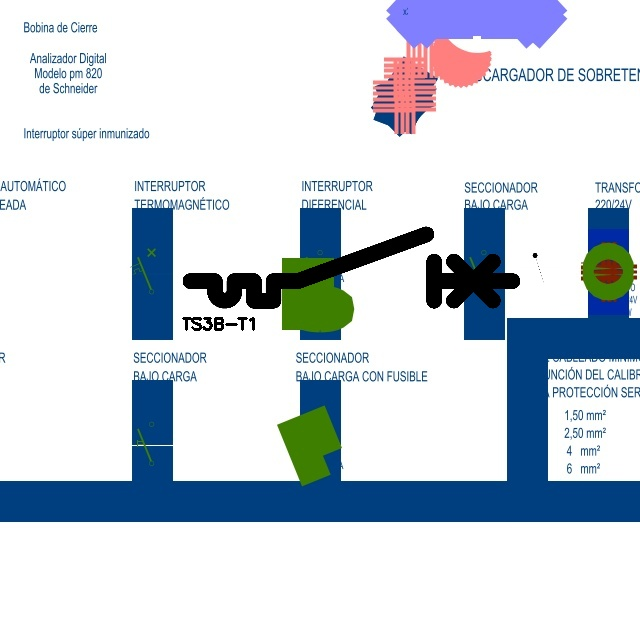interruptor_termomagnetico: (182, 226, 521, 309)
